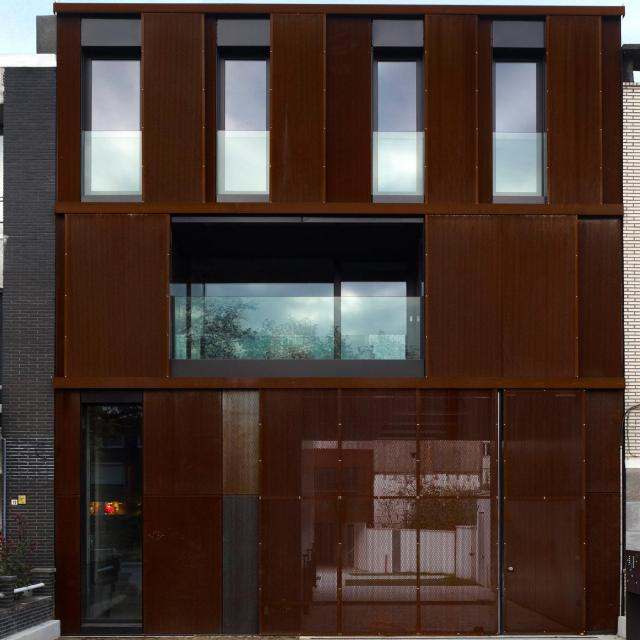Railing: (172, 295, 426, 363), (82, 128, 143, 199), (491, 134, 546, 202), (372, 131, 426, 198), (217, 129, 270, 195)
wall: (55, 5, 623, 640)
windows: (82, 406, 141, 623), (218, 58, 270, 130), (491, 62, 544, 132), (89, 58, 140, 129), (173, 281, 424, 294), (374, 61, 418, 131)
